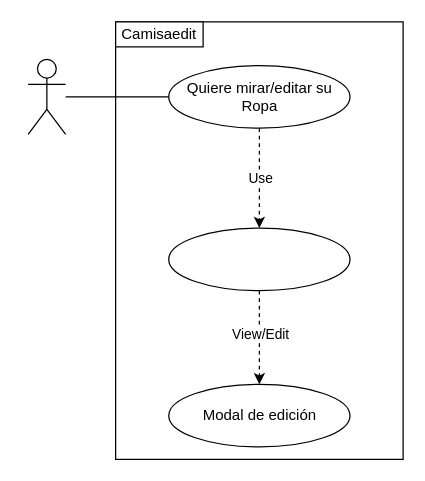
The diagram is 425 pixels wide and 481 high, and some of its shapes have lost their labels. The centre of each missing label's shape, as x and y in pixels:
Profile.php: the point at 259,259
Usuario: the point at 46,96
